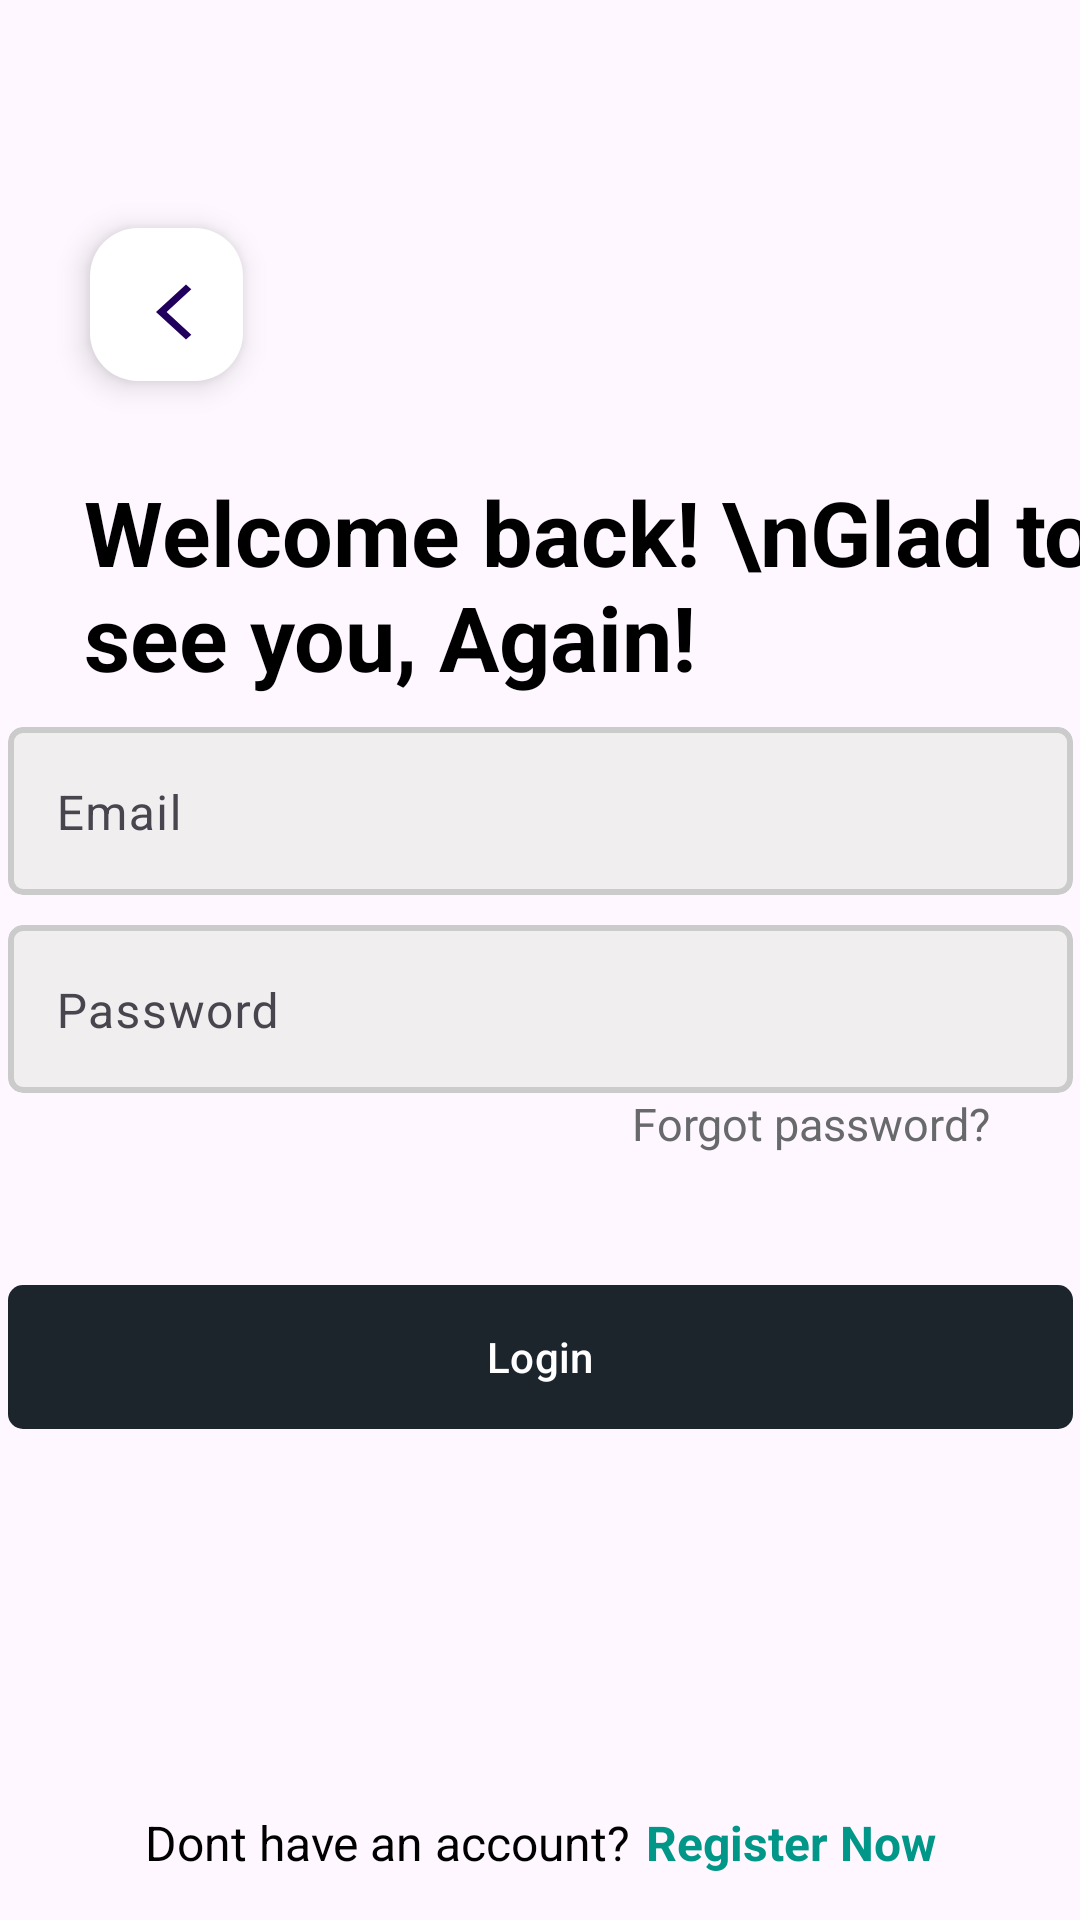

Icon click points for this 1080 × 1920 phone screenshot, format (x=x, y=y):
arrow back: (x=166, y=304)
